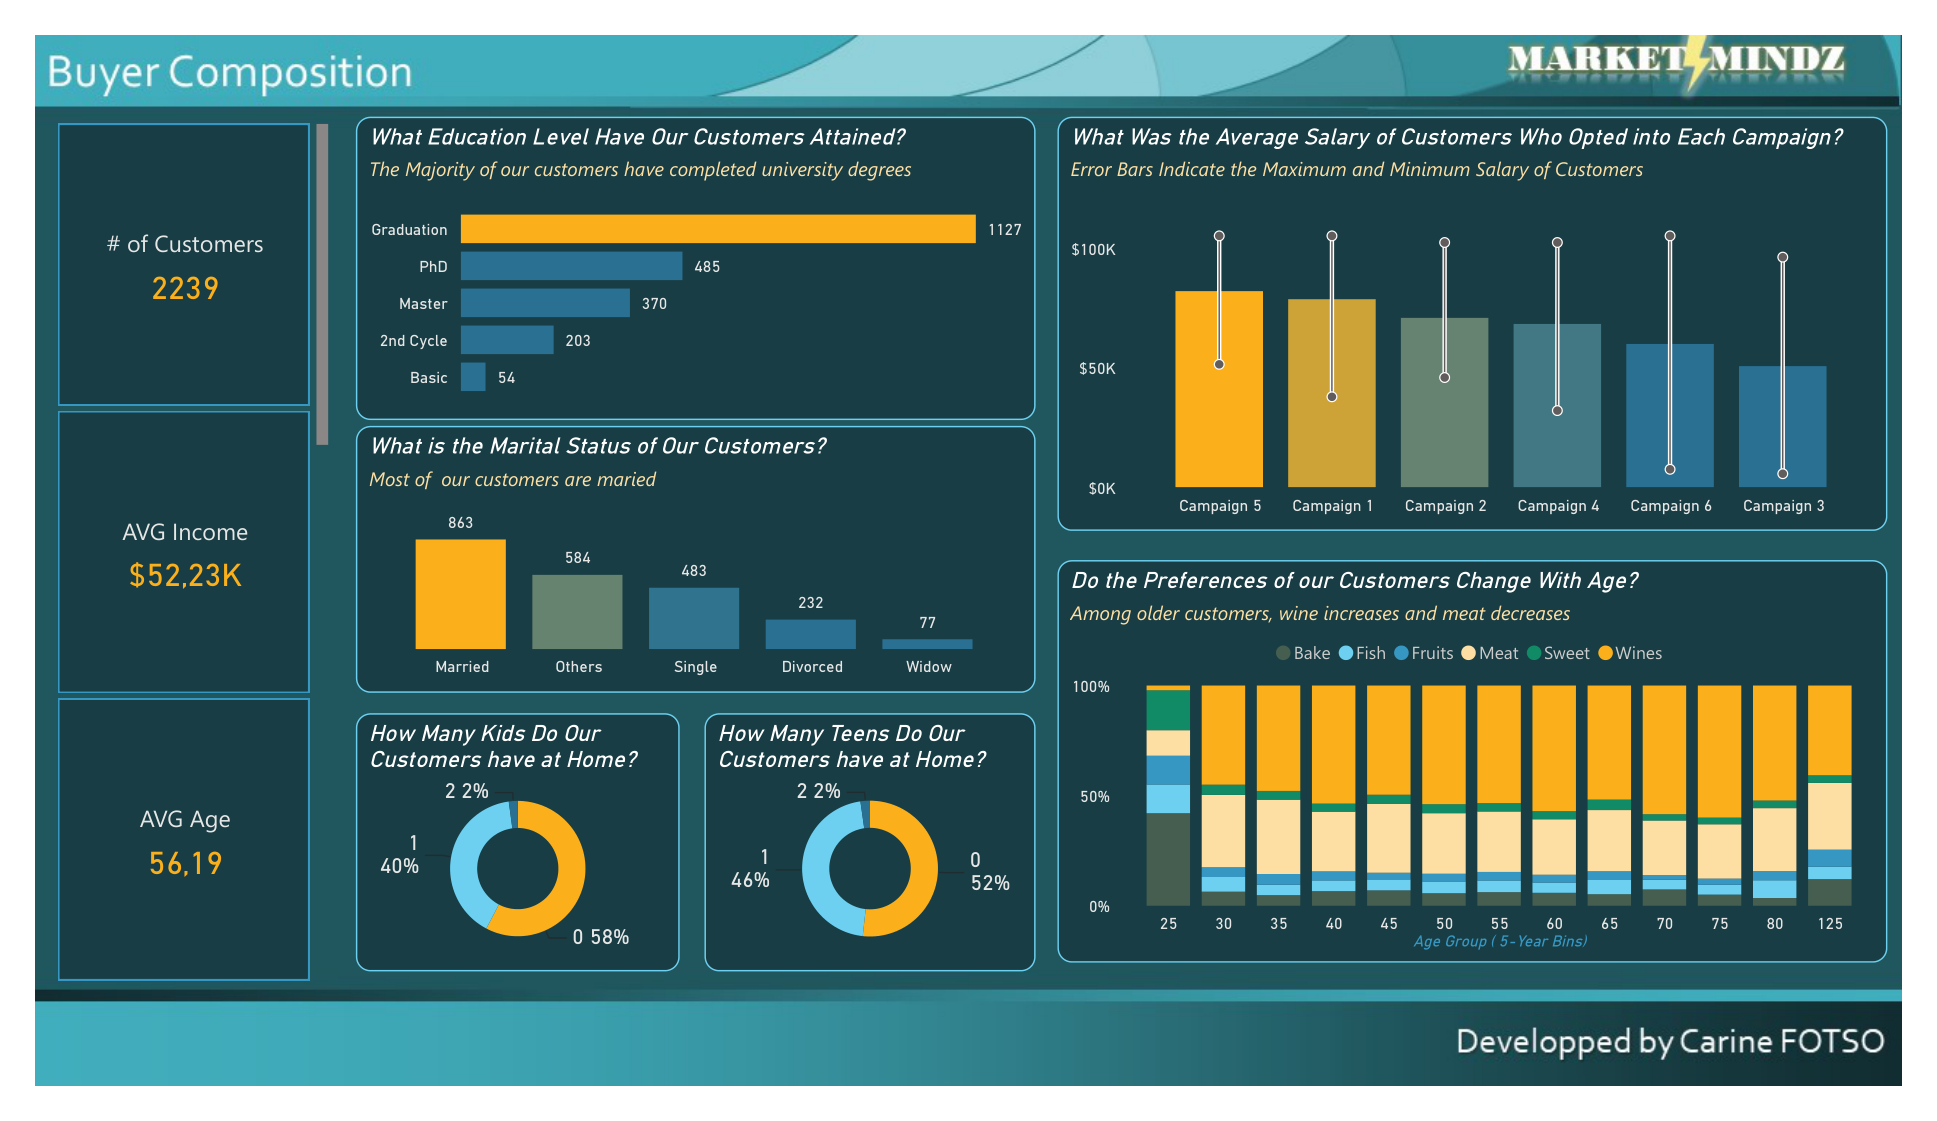

The dashboard page shown, as its layout file describes it:
{"tool":"powerbi","page":{"name":"Buyer Composition","canvas":[1280,720],"ordinal":2},"visuals":[{"type":"barChart","title":"What Education Level Have Our Customers Attained?","fields":{"Category":["Marketing_data.Education"],"Y":["CountNonNull(Marketing_data.ID)"]},"box":[219.8,56.4,465.9,207.2],"z":0},{"type":"clusteredColumnChart","title":"What is the Marital Status of Our Customers?","fields":{"Category":["Marketing_data.Marital_Status"],"Y":["CountNonNull(Marketing_data.ID)"]},"box":[219.8,268.4,465.9,182.9],"z":1000},{"type":"donutChart","title":"How Many Kids Do Our Customers have at Home?","fields":{"Category":["Marketing_data.Kidhome"],"Y":["CountNonNull(Marketing_data.ID)"]},"box":[219.8,464.9,221.8,177],"z":2000},{"type":"donutChart","title":"How Many Teens Do Our Customers have at Home?","fields":{"Category":["Marketing_data.Teenhome"],"Y":["CountNonNull(Marketing_data.ID)"]},"box":[459.1,464.9,226.6,177],"z":3000},{"type":"clusteredColumnChart","title":"What Was the Average Salary of Customers Who Opted into Each Campaign?","fields":{"Category":["Campaign.Campaign"],"Y":["Avg(Marketing_data. Income )"]},"box":[701.3,56.4,569,284],"z":4000},{"type":"hundredPercentStackedColumnChart","title":"Do the Preferences of our Customers Change With Age?","fields":{"Category":["Marketing_data.Age (compartiments)"],"Series":["Products.products"],"Y":["Sum(Products.Total Sales)"]},"box":[701.3,359.9,569,276.2],"z":5000},{"type":"cardVisual","fields":{"Data":["CountNonNull(Marketing_data.ID)","Avg(Marketing_data. Income )","Avg(Marketing_data.Age)","Sum(Marketing_data.Purchases - Deals)","Sum(Marketing_data.Purchases-Stores)","Sum(Marketing_data.Purchases-Catalog)","Sum(Marketing_data.Purchases- Web)","Sum(Marketing_data.Web Visit last Month)"]},"box":[10.7,56.4,195.5,599.1],"z":6000}]}

Visuals, with their boxes in screenshot pixels (x1, y1, x2, y2), scaled from the page's 1280x720 canvas onto the 1937x1121 screenshot:
"What Education Level Have Our Customers Attained?" barChart: bbox(333, 88, 1038, 410)
"What is the Marital Status of Our Customers?" clusteredColumnChart: bbox(333, 418, 1038, 703)
"How Many Kids Do Our Customers have at Home?" donutChart: bbox(333, 724, 668, 999)
"How Many Teens Do Our Customers have at Home?" donutChart: bbox(695, 724, 1038, 999)
"What Was the Average Salary of Customers Who Opted into Each Campaign?" clusteredColumnChart: bbox(1061, 88, 1922, 530)
"Do the Preferences of our Customers Change With Age?" hundredPercentStackedColumnChart: bbox(1061, 560, 1922, 990)
cardVisual - CountNonNull(Marketing_data.ID) x Avg(Marketing_data. Income ): bbox(16, 88, 312, 1021)
